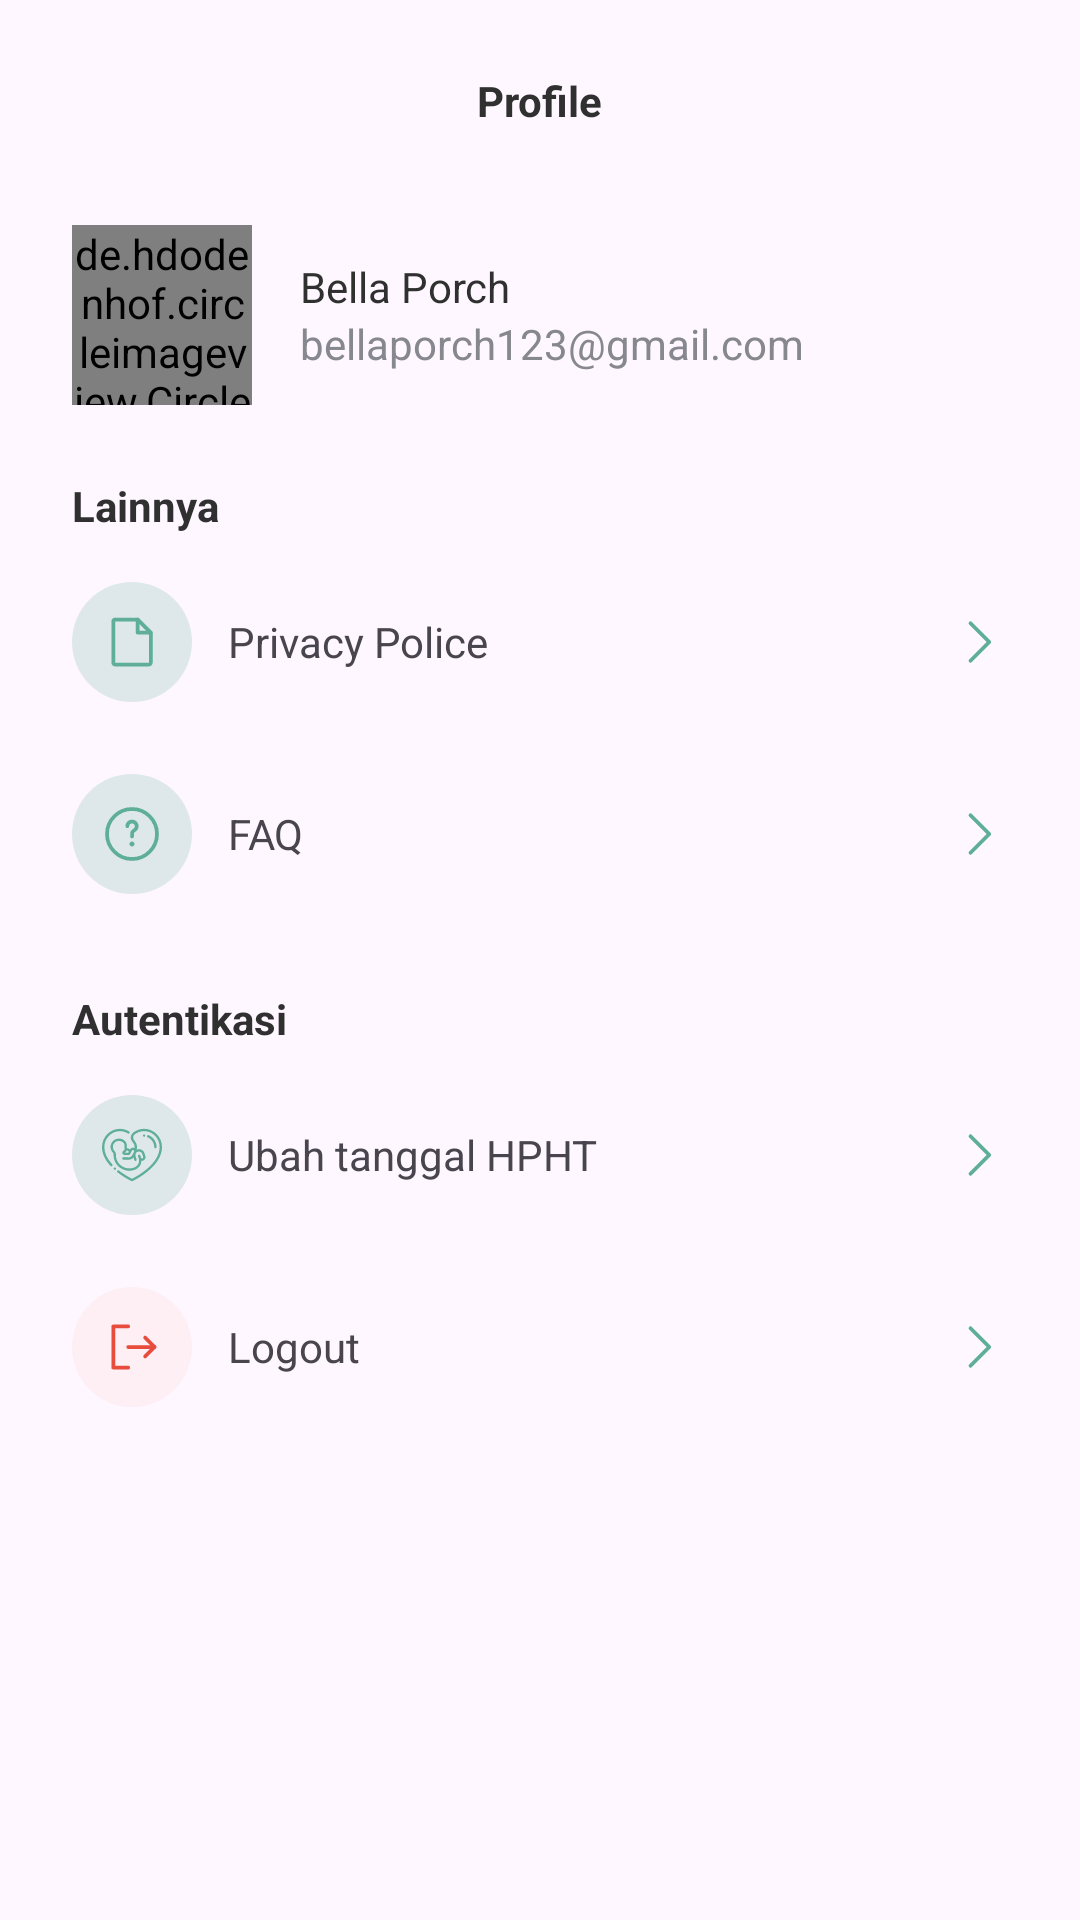

Where to tap for icons on this 1080*1920 app screen, as [x,y]:
embrio: [132,1155]
file: [132,642]
question mark: [132,834]
right arrow: [979,642], [979,834], [979,1155]
